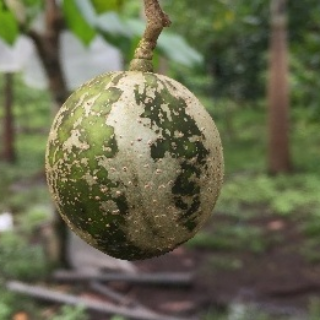coc: (43, 69, 224, 262)
